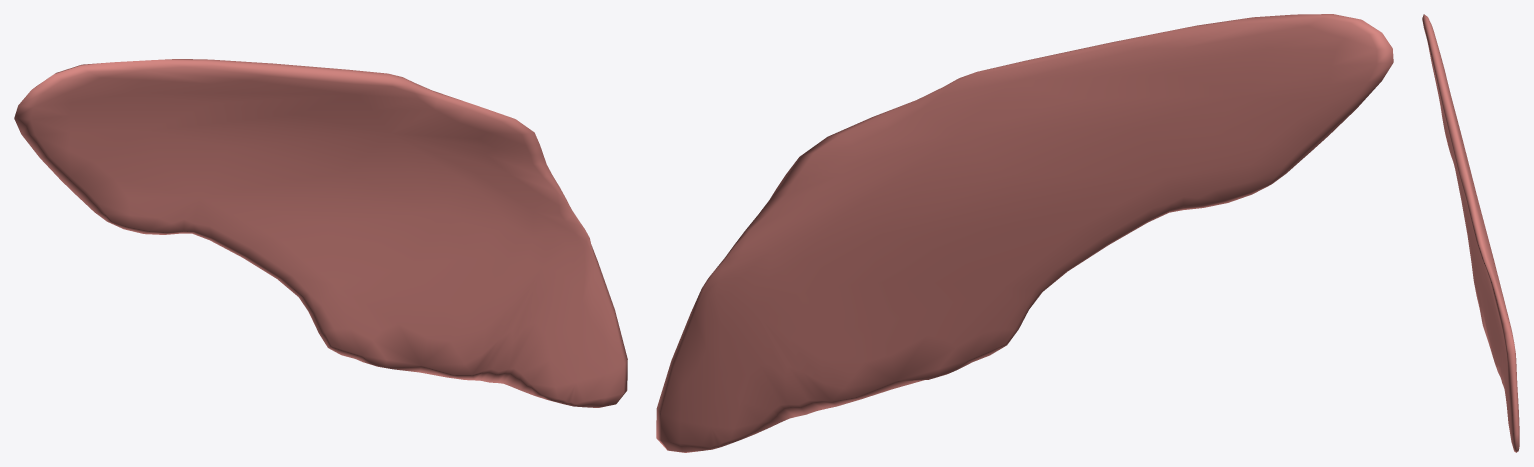
3 renders of one model, left to right at view 1: azimuth 30°, elevation 25°; view 2: azimuth 150°, elevation 25°; view 3: azimuth 270°, elevation 25°, orthographic. The views are drawn at different scales.
Visible parts, largest first — view 1: ZA_2e50d4e5d8e36ad0; view 2: ZA_2e50d4e5d8e36ad0; view 3: ZA_2e50d4e5d8e36ad0.
Part boxes in pixels (x1,y1,x2,y2): ZA_2e50d4e5d8e36ad0: (14,59,627,407); ZA_2e50d4e5d8e36ad0: (656,14,1393,452); ZA_2e50d4e5d8e36ad0: (1422,14,1519,452).
Bounding box in the file's own units: 0.0222 × 0.0168 × 0.00534.
